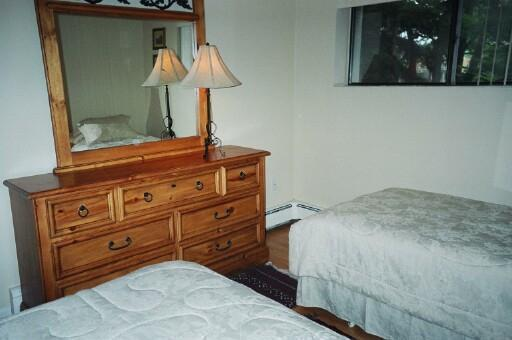Cama: (297, 180, 511, 337), (3, 262, 341, 337)
Ventana: (349, 8, 511, 86)
